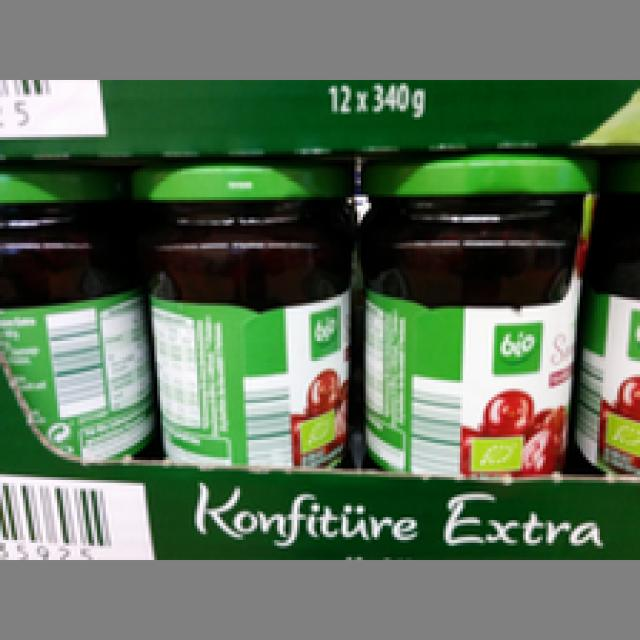groceries: (354, 149, 594, 474), (129, 157, 354, 463), (0, 165, 151, 457)
